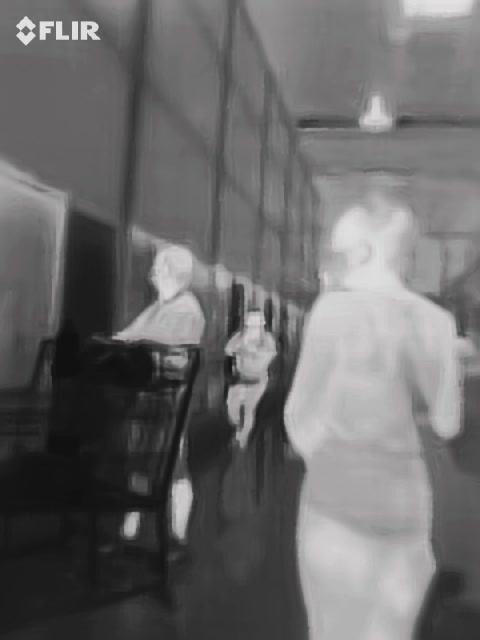head: (326, 201, 404, 292), (152, 244, 195, 299)
